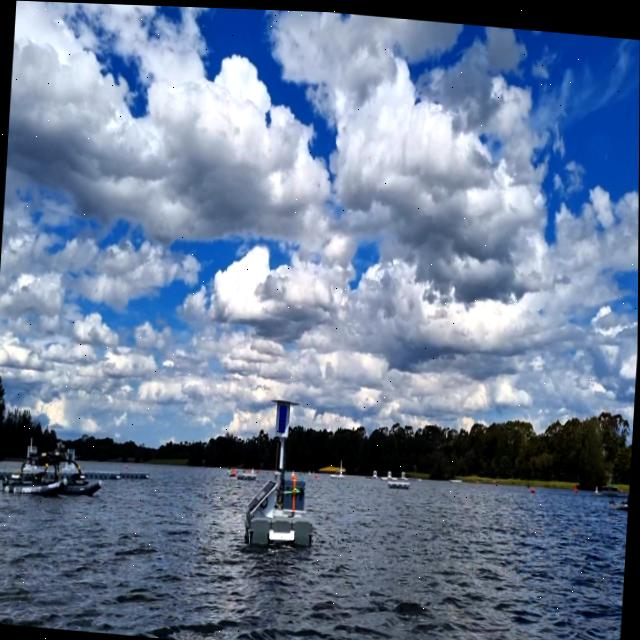led: (278, 400, 290, 434)
